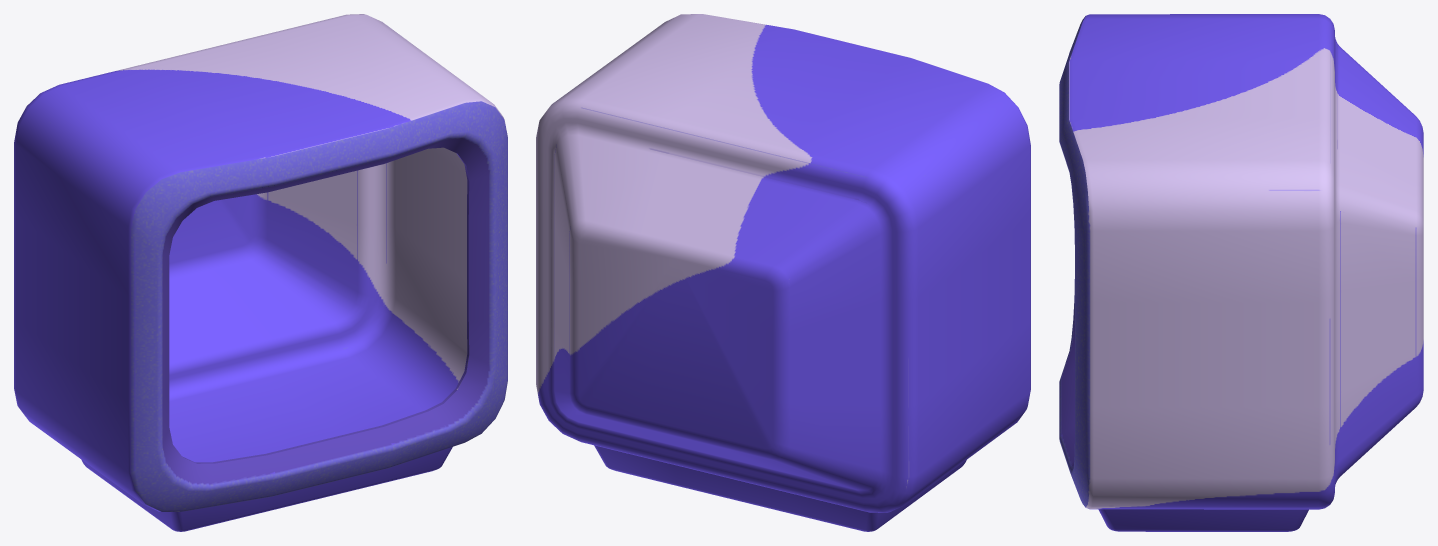
The picture shows the model from 3 angles, left to right: view 1: azimuth 30°, elevation 25°; view 2: azimuth 150°, elevation 25°; view 3: azimuth 270°, elevation 25°; orthographic projection.
Visible parts, largest first — view 1: Cube.002_Baked; view 2: Cube.002_Baked; view 3: Cube.002_Baked.
Part boxes in pixels (left/top/right/bottom): Cube.002_Baked: left=14, top=14, right=507, bottom=531; Cube.002_Baked: left=536, top=14, right=1030, bottom=531; Cube.002_Baked: left=1059, top=14, right=1423, bottom=531.
Size of the model in its own units: 232 by 220 by 192.
1 material, 1 textured.
